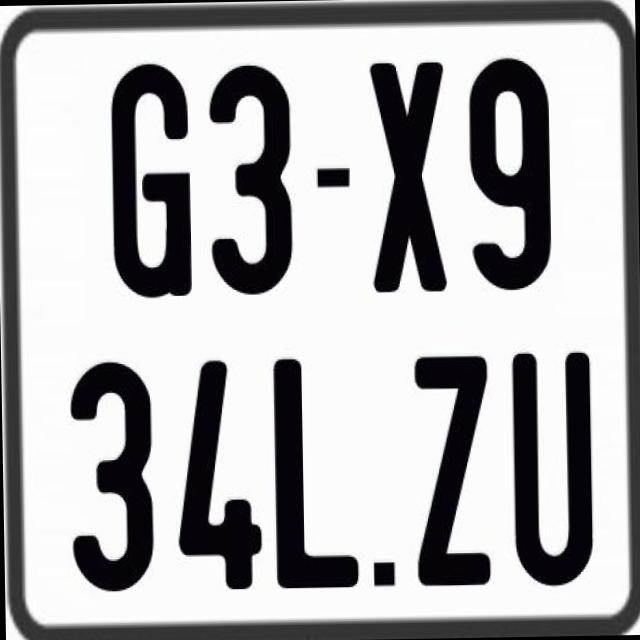3: (208, 64, 300, 301), (66, 360, 150, 590)
4: (175, 354, 270, 588)
9: (466, 55, 552, 296)
G: (106, 60, 189, 301)
L: (272, 358, 358, 590)
U: (507, 348, 594, 588)
X: (369, 60, 449, 294)
Z: (414, 354, 496, 592)
